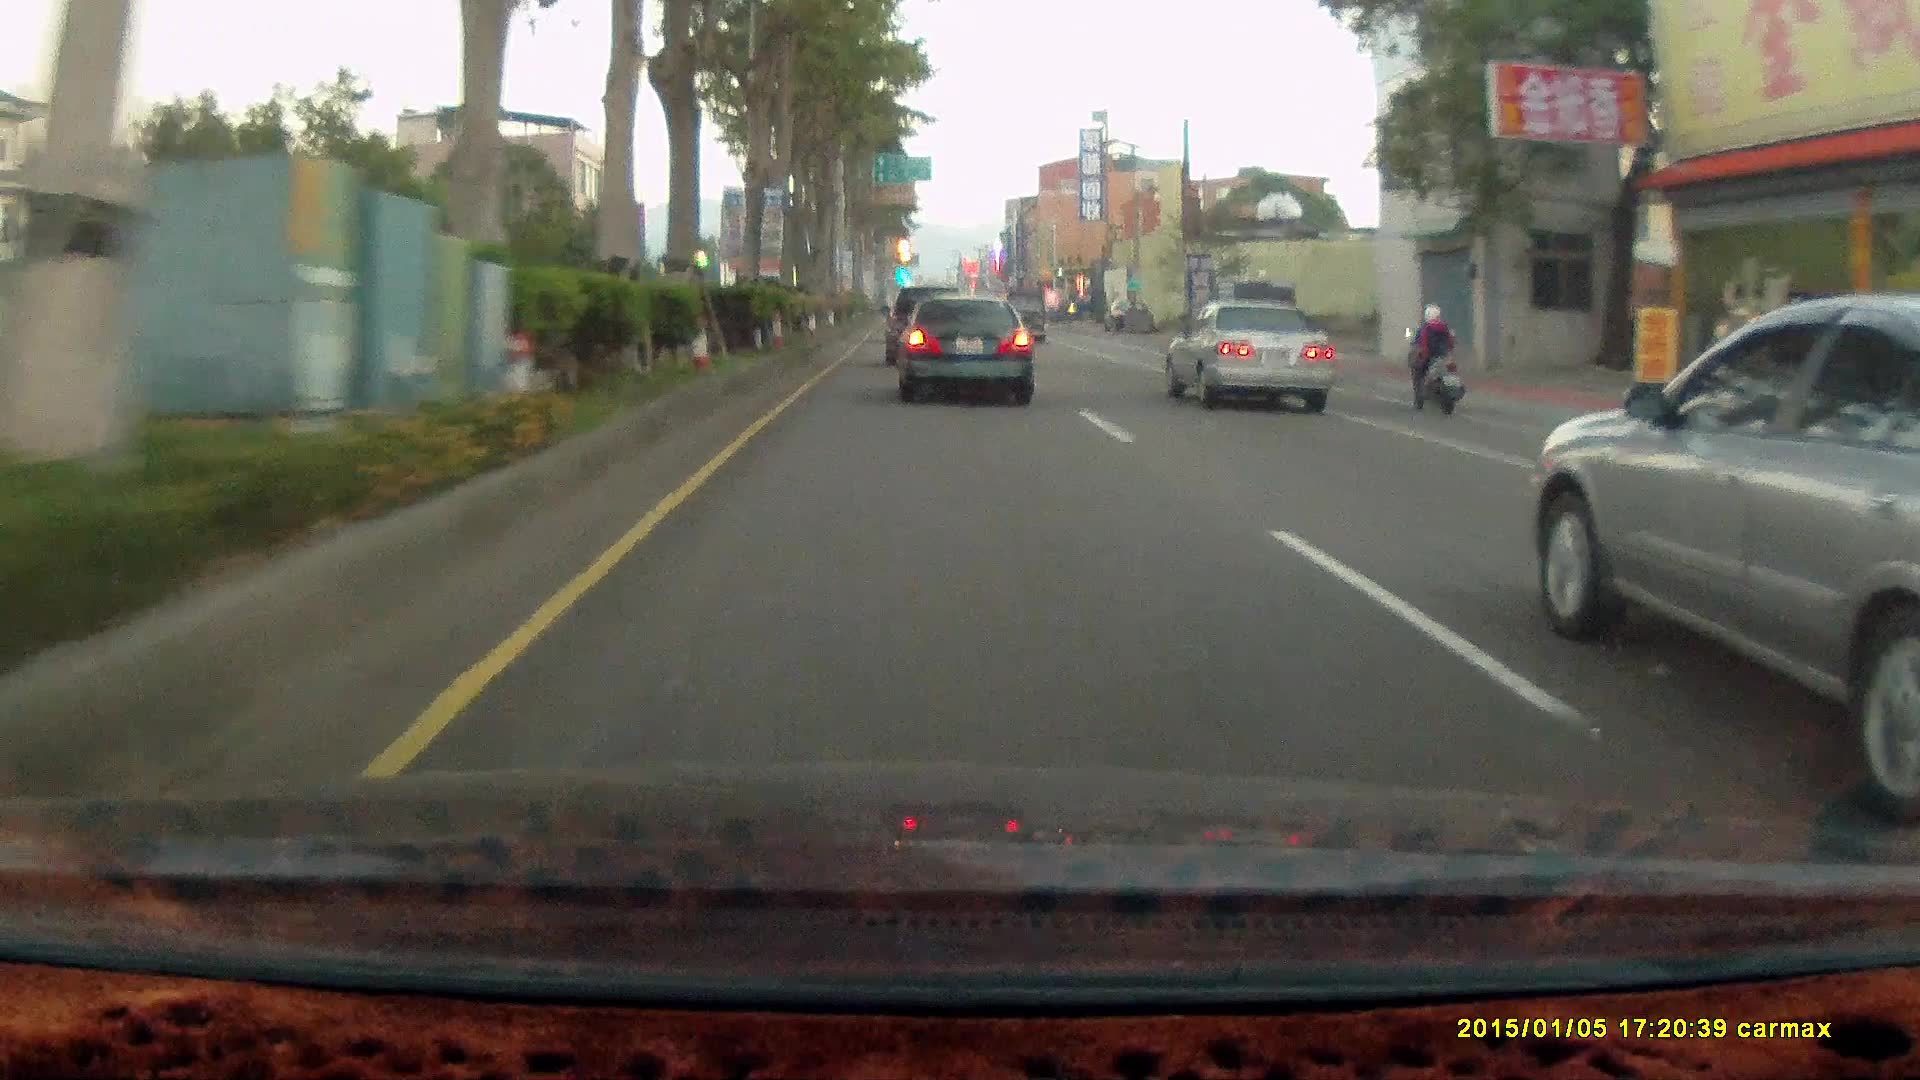rider: (1395, 294, 1474, 420), (1402, 293, 1467, 408)
vehicle: (1527, 294, 1920, 828), (1163, 297, 1336, 413), (1172, 299, 1335, 404), (896, 290, 1036, 402), (898, 289, 1036, 400), (885, 282, 973, 365), (1210, 280, 1296, 358), (881, 283, 963, 363), (1000, 287, 1047, 342)
